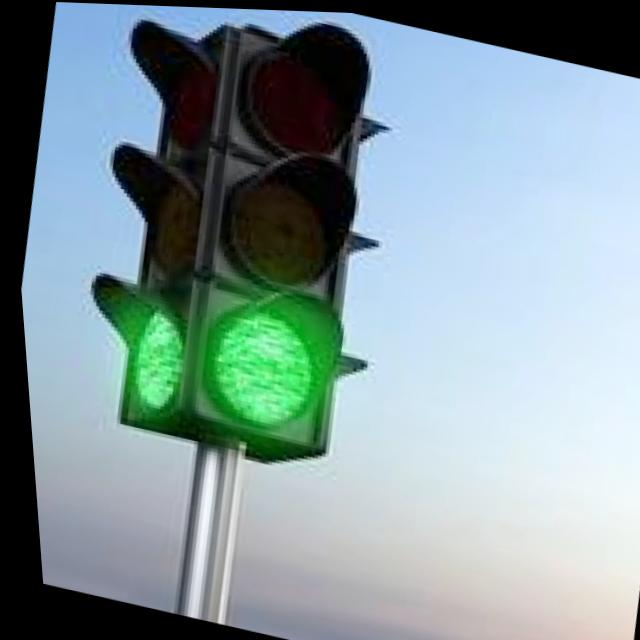green_light: (21, 238, 243, 453), (164, 276, 355, 487)
